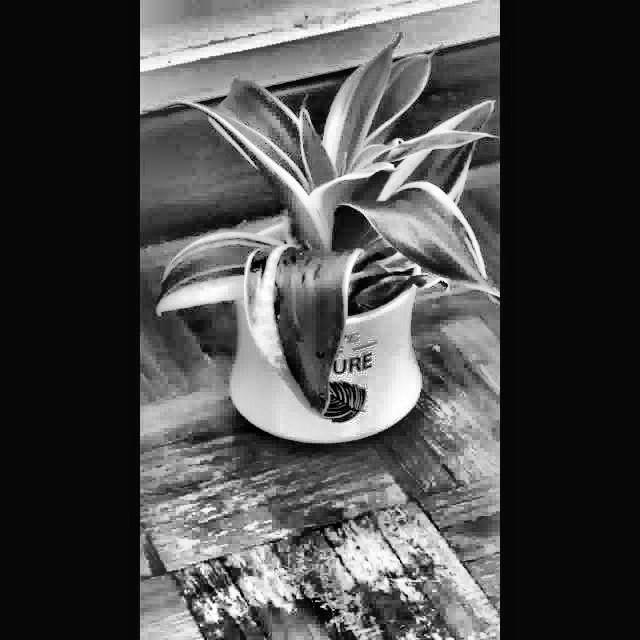plants: (152, 26, 499, 450)
